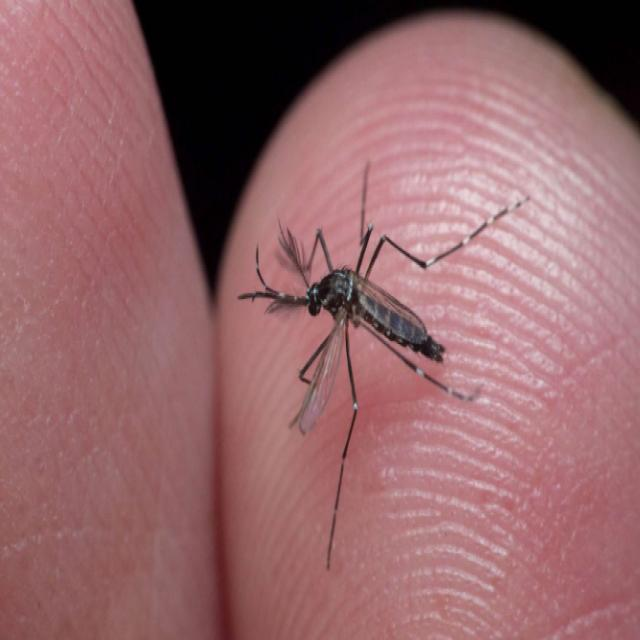Mosquito: (198, 121, 487, 521)
